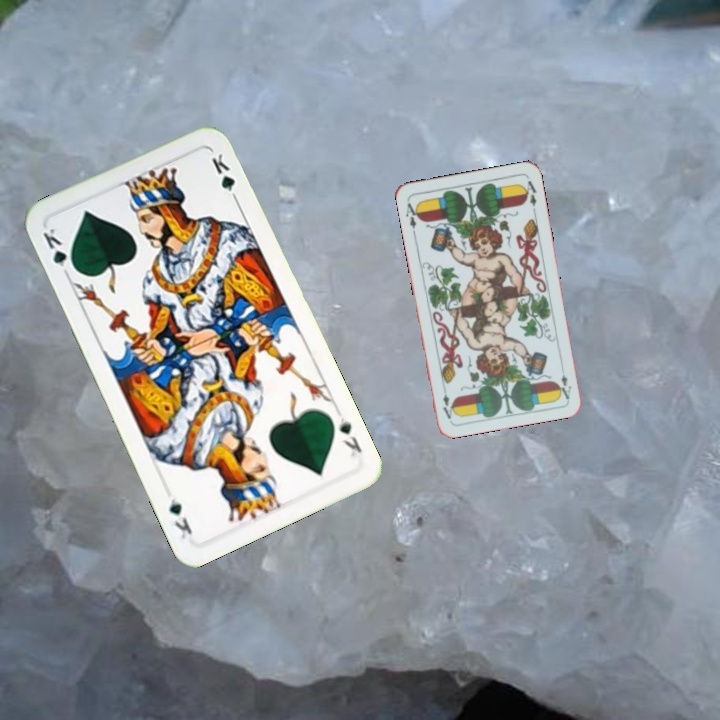EA: (402, 197, 422, 231), (554, 371, 574, 401)
GK: (38, 224, 79, 280), (335, 413, 365, 460)
